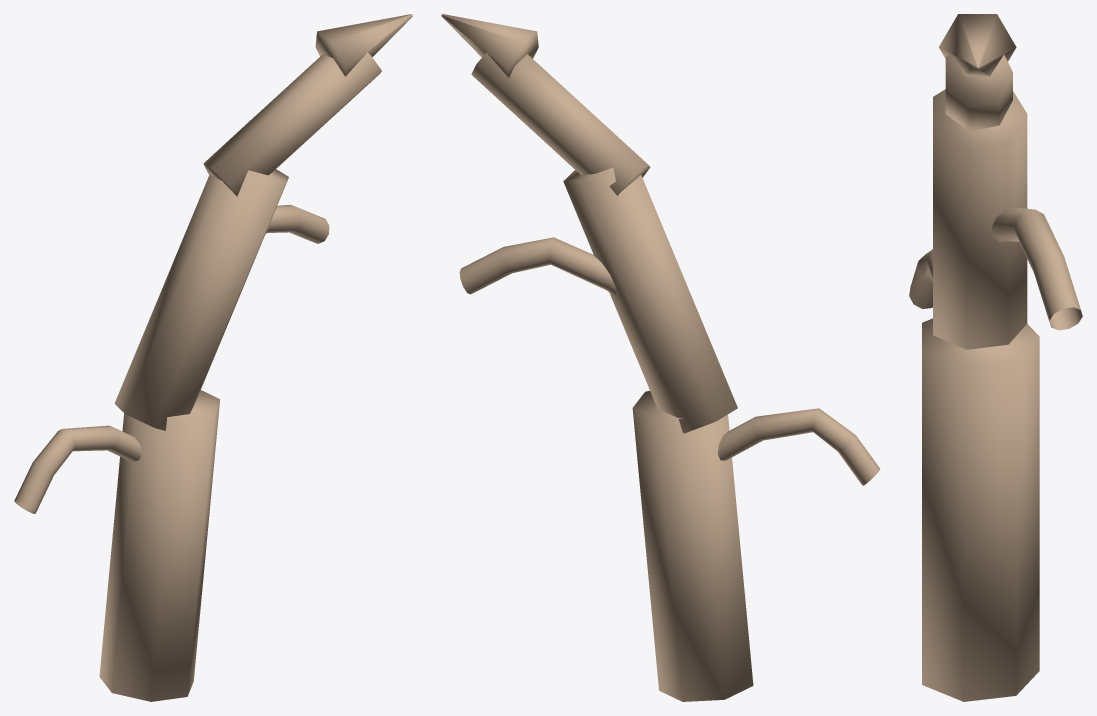
The model's file is dead.glb.
3 renders of one model, left to right at view 1: azimuth 30°, elevation 25°; view 2: azimuth 150°, elevation 25°; view 3: azimuth 270°, elevation 25°, orthographic. The views are drawn at different scales.
Visible parts, largest first — view 1: Stem1, Stem2, Stem3, Twig2, Break, Twig; view 2: Stem1, Stem2, Stem3, Twig2, Twig, Break; view 3: Stem1, Stem2, Twig, Stem3, Break, Twig2.
Boxes of the visible parts, x1,y1,x2,y2 form: Stem1: (99,390,219,701); Stem2: (114,169,288,430); Stem3: (203,52,381,196); Twig2: (14,425,141,513); Break: (315,14,412,76); Twig: (265,204,329,243); Stem1: (632,390,753,701); Stem2: (563,167,737,433); Stem3: (471,52,650,195); Twig2: (718,408,880,485); Twig: (459,237,616,295); Break: (441,14,538,77); Stem1: (922,318,1039,701); Stem2: (933,89,1027,349); Twig: (991,207,1082,330); Stem3: (945,53,1012,131); Break: (939,14,1016,76); Twig2: (909,249,932,308).
Size of the model in its own units: 0.3454 by 0.4831 by 0.0982.
